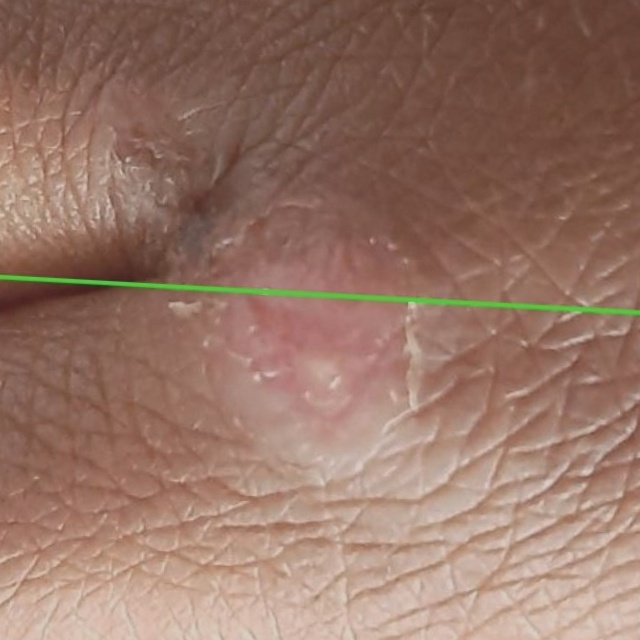Eczema: (0, 275, 639, 639)
